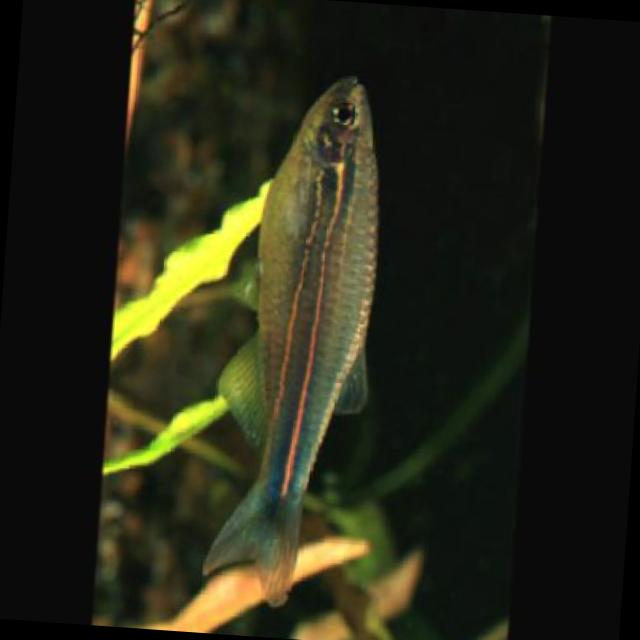ZebraFish: (206, 70, 391, 608)
